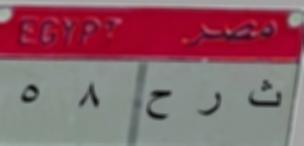5: (14, 78, 43, 109)
7aa: (145, 82, 176, 128)
8: (76, 78, 102, 114)
raa: (194, 88, 226, 123)
thaa: (241, 74, 291, 121)
